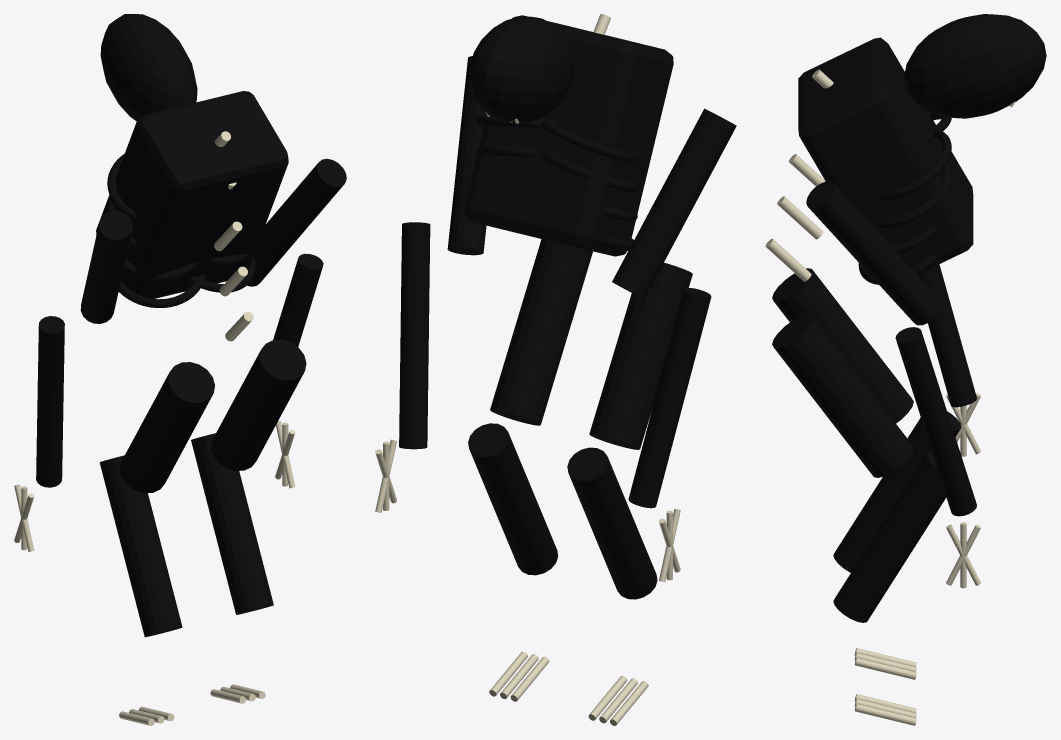
File: Shadow_Stalker.obj
3 renders of one model, left to right at view 1: azimuth 30°, elevation 25°; view 2: azimuth 150°, elevation 25°; view 3: azimuth 270°, elevation 25°, orthographic. The views are drawn at different scales.
Visible parts, largest first — view 1: Stalker_Chest, Stalker_Skull, Stalker_Thigh_R, Stalker_Thigh_L, Stalker_Shank_L, Stalker_Shank_R, Stalker_ArmLower_L, Stalker_ArmUpper_R, Stalker_ArmUpper_L, Stalker_ArmLower_R, Torus.006, Torus; view 2: Stalker_Chest, Stalker_Thigh_R, Stalker_Thigh_L, Stalker_Skull, Stalker_ArmUpper_L, Stalker_Shank_L, Stalker_Shank_R, Stalker_ArmLower_R, Stalker_ArmLower_L, Stalker_ArmUpper_R, Torus, Torus.002; view 3: Stalker_Chest, Stalker_Skull, Stalker_Thigh_R, Stalker_Shank_R, Stalker_ArmUpper_R, Stalker_Thigh_L, Stalker_ArmLower_R, Stalker_Shank_L, Stalker_ArmLower_L, Torus.001, Torus.003, Stalker_Spine_4 (+3 smaller).
Part boxes in pixels (box(x1,y1,x2,y2)): Stalker_Chest: box(96, 91, 288, 298); Stalker_Skull: box(100, 14, 197, 121); Stalker_Thigh_R: box(211, 339, 306, 470); Stalker_Thigh_L: box(119, 362, 214, 493); Stalker_Shank_L: box(99, 455, 182, 637); Stalker_Shank_R: box(191, 433, 273, 614); Stalker_ArmLower_L: box(36, 316, 64, 487); Stalker_ArmUpper_R: box(247, 158, 346, 286); Stalker_ArmUpper_L: box(80, 210, 132, 323); Stalker_ArmLower_R: box(273, 253, 323, 346); Torus.006: box(118, 274, 205, 307); Torus: box(107, 154, 137, 221); Stalker_Chest: box(464, 15, 673, 256); Stalker_Thigh_R: box(490, 239, 592, 425); Stalker_Thigh_L: box(589, 262, 692, 449); Stalker_Skull: box(469, 16, 574, 123); Stalker_ArmUpper_L: box(612, 108, 736, 298); Stalker_Shank_L: box(567, 447, 657, 599); Stalker_Shank_R: box(468, 423, 558, 575); Stalker_ArmLower_R: box(399, 222, 430, 449); Stalker_ArmLower_L: box(628, 288, 711, 508); Stalker_ArmUpper_R: box(447, 56, 486, 255); Torus: box(540, 117, 637, 162); Torus.002: box(542, 152, 637, 191); Stalker_Chest: box(798, 37, 973, 272); Stalker_Skull: box(904, 14, 1046, 118); Stalker_Thigh_R: box(772, 314, 913, 477); Stalker_Shank_R: box(833, 451, 946, 622); Stalker_ArmUpper_R: box(806, 181, 941, 325); Stalker_Thigh_L: box(772, 268, 913, 423); Stalker_ArmLower_R: box(895, 327, 976, 516); Stalker_Shank_L: box(833, 411, 961, 572); Stalker_ArmLower_L: box(918, 264, 976, 407); Torus.001: box(878, 127, 951, 200); Torus.003: box(878, 163, 951, 228); Stalker_Spine_4: box(765, 238, 811, 281).
Bounding box in the file's own units: 0.8633 × 1.93 × 0.7227.
